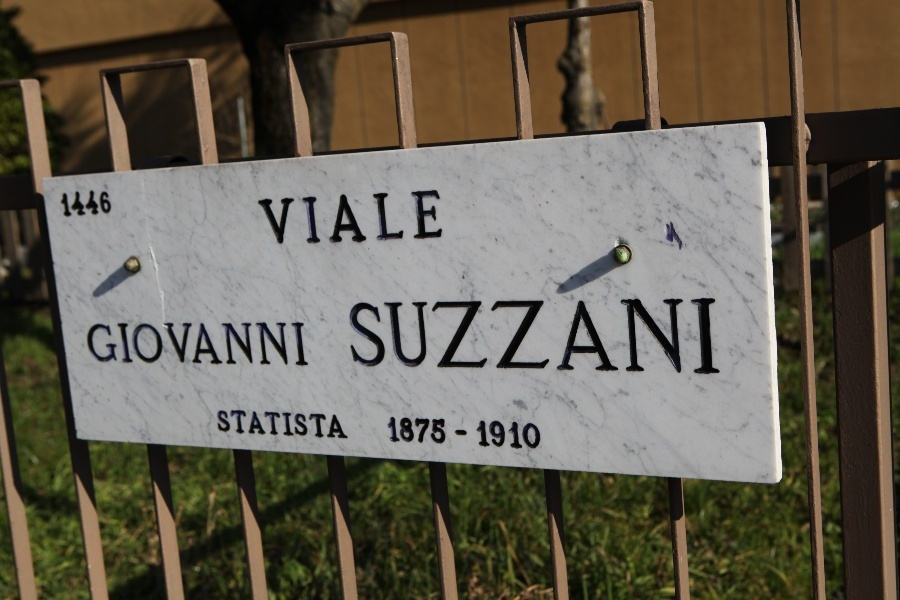text: (353, 295, 368, 378), (369, 295, 384, 378), (385, 295, 400, 378), (401, 295, 416, 378), (417, 295, 432, 378), (433, 295, 448, 378), (449, 295, 464, 378), (465, 295, 480, 378), (481, 295, 496, 378), (497, 295, 512, 378), (513, 295, 528, 378), (529, 295, 544, 378), (545, 295, 560, 378), (561, 295, 576, 378), (577, 295, 592, 378), (593, 295, 608, 378), (609, 295, 624, 378), (625, 295, 640, 378), (641, 295, 656, 378), (657, 295, 672, 378), (673, 295, 688, 378), (689, 295, 704, 378), (705, 295, 720, 378), (257, 184, 272, 253), (273, 184, 288, 253), (289, 184, 304, 253), (305, 184, 320, 253), (321, 184, 336, 253), (337, 184, 352, 253), (353, 184, 368, 253), (369, 184, 384, 253), (385, 184, 400, 253), (401, 184, 416, 253), (417, 184, 432, 253), (433, 184, 447, 253), (97, 318, 112, 371), (113, 318, 128, 371), (129, 318, 144, 371), (145, 318, 160, 371), (161, 318, 176, 371), (177, 318, 192, 371), (193, 318, 208, 371), (209, 318, 224, 371), (225, 318, 240, 371), (241, 318, 256, 371), (257, 318, 272, 371), (273, 318, 288, 371), (289, 318, 304, 371), (401, 415, 416, 451), (417, 415, 432, 451), (433, 415, 448, 451), (449, 415, 464, 451), (465, 415, 480, 451), (481, 415, 496, 451), (497, 415, 512, 451), (513, 415, 528, 451), (86, 318, 96, 371), (65, 187, 80, 221), (81, 187, 96, 221), (97, 187, 112, 221), (225, 408, 240, 442), (241, 408, 256, 442), (257, 408, 272, 442), (273, 408, 288, 442), (289, 408, 304, 442), (305, 408, 320, 442), (321, 408, 336, 442), (337, 408, 352, 442), (386, 415, 400, 451), (529, 415, 542, 451), (347, 295, 352, 378), (212, 408, 224, 442), (305, 318, 312, 371), (721, 295, 725, 378), (56, 187, 64, 221), (254, 184, 256, 253), (113, 187, 115, 221)
